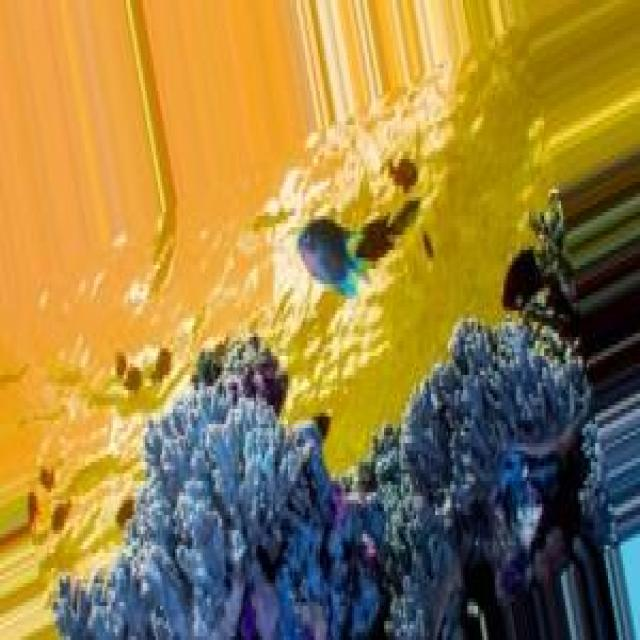Healthy: (52, 323, 609, 640), (400, 327, 594, 626), (74, 387, 298, 640), (306, 490, 402, 640)
